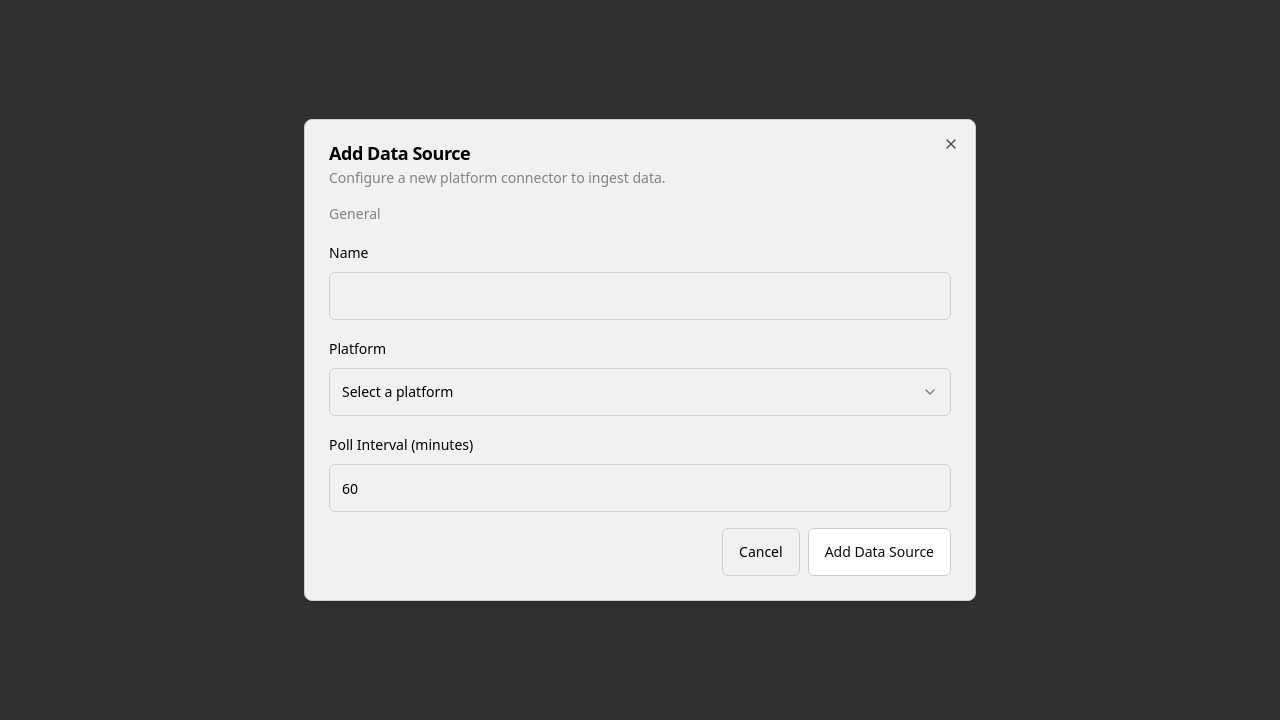
DataSourceDialog — File Upload platform › renders "File Upload" option in the platform dropdown
The width and height of the screenshot is (1280, 720).
Click the dropdown at x=398, y=392, box [329, 368, 951, 416]
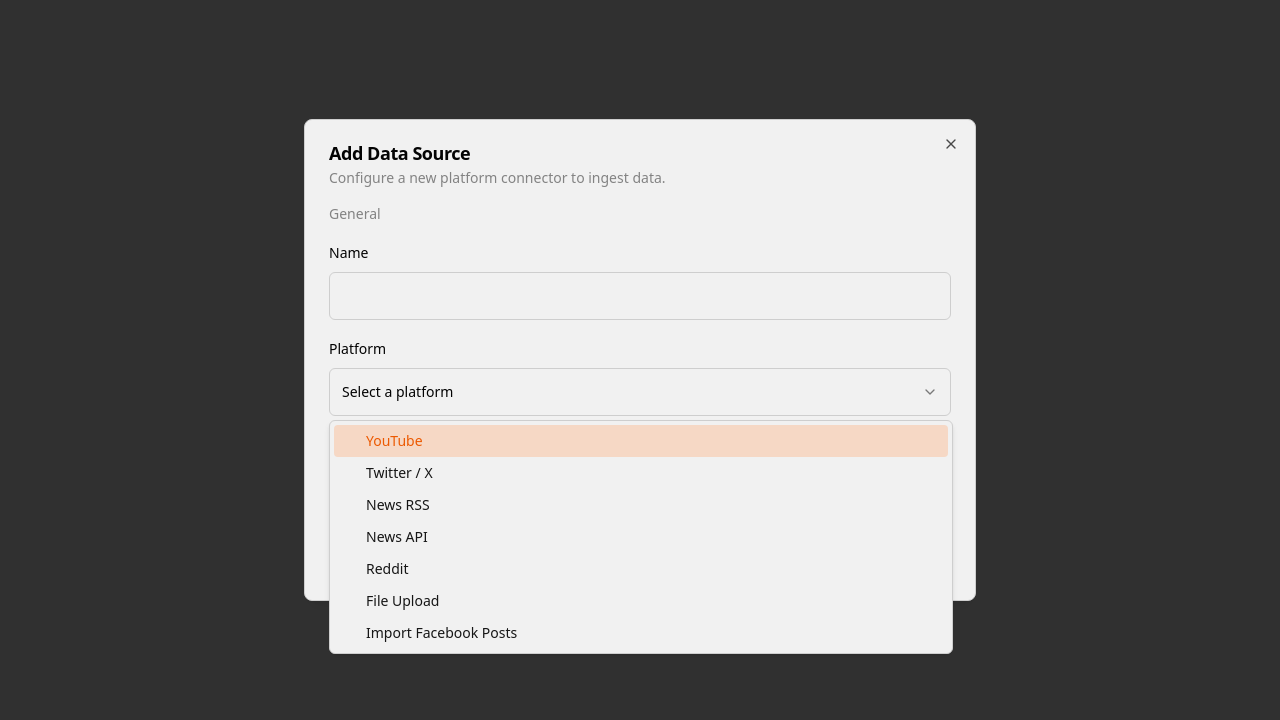
Check: the option "File Upload" is shown, box [366, 591, 439, 610]
